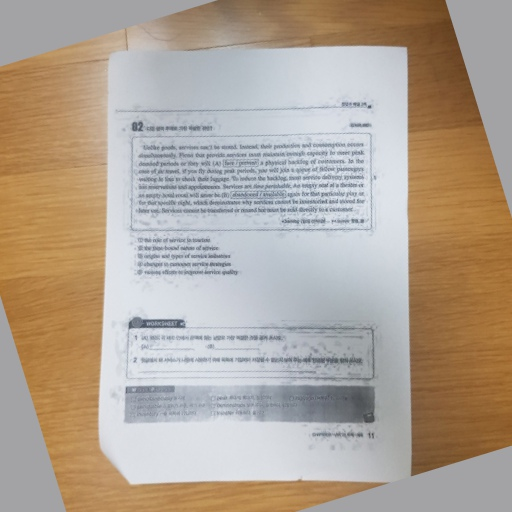Paper_2: (86, 33, 427, 497)
